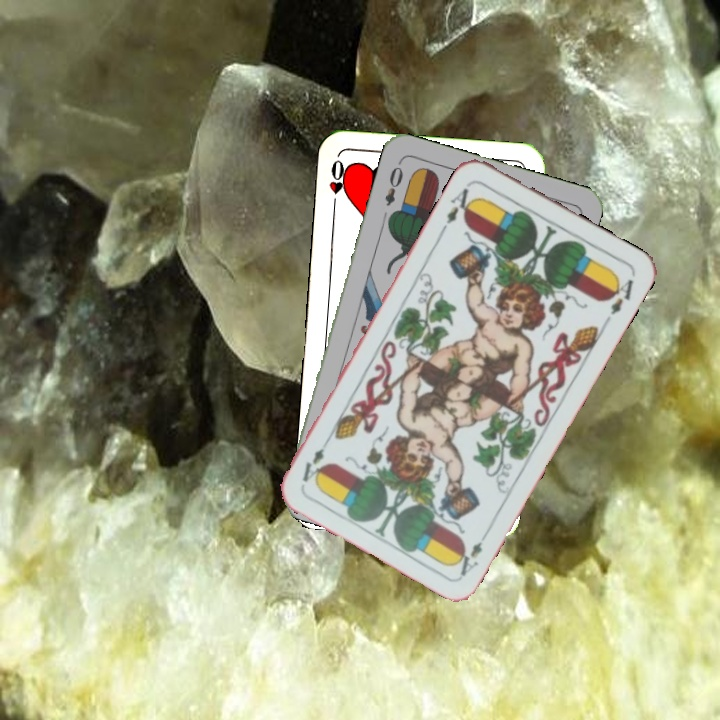EA: (451, 525, 493, 579), (438, 179, 478, 233)
EO: (380, 157, 406, 209)
HO: (325, 155, 351, 213)
